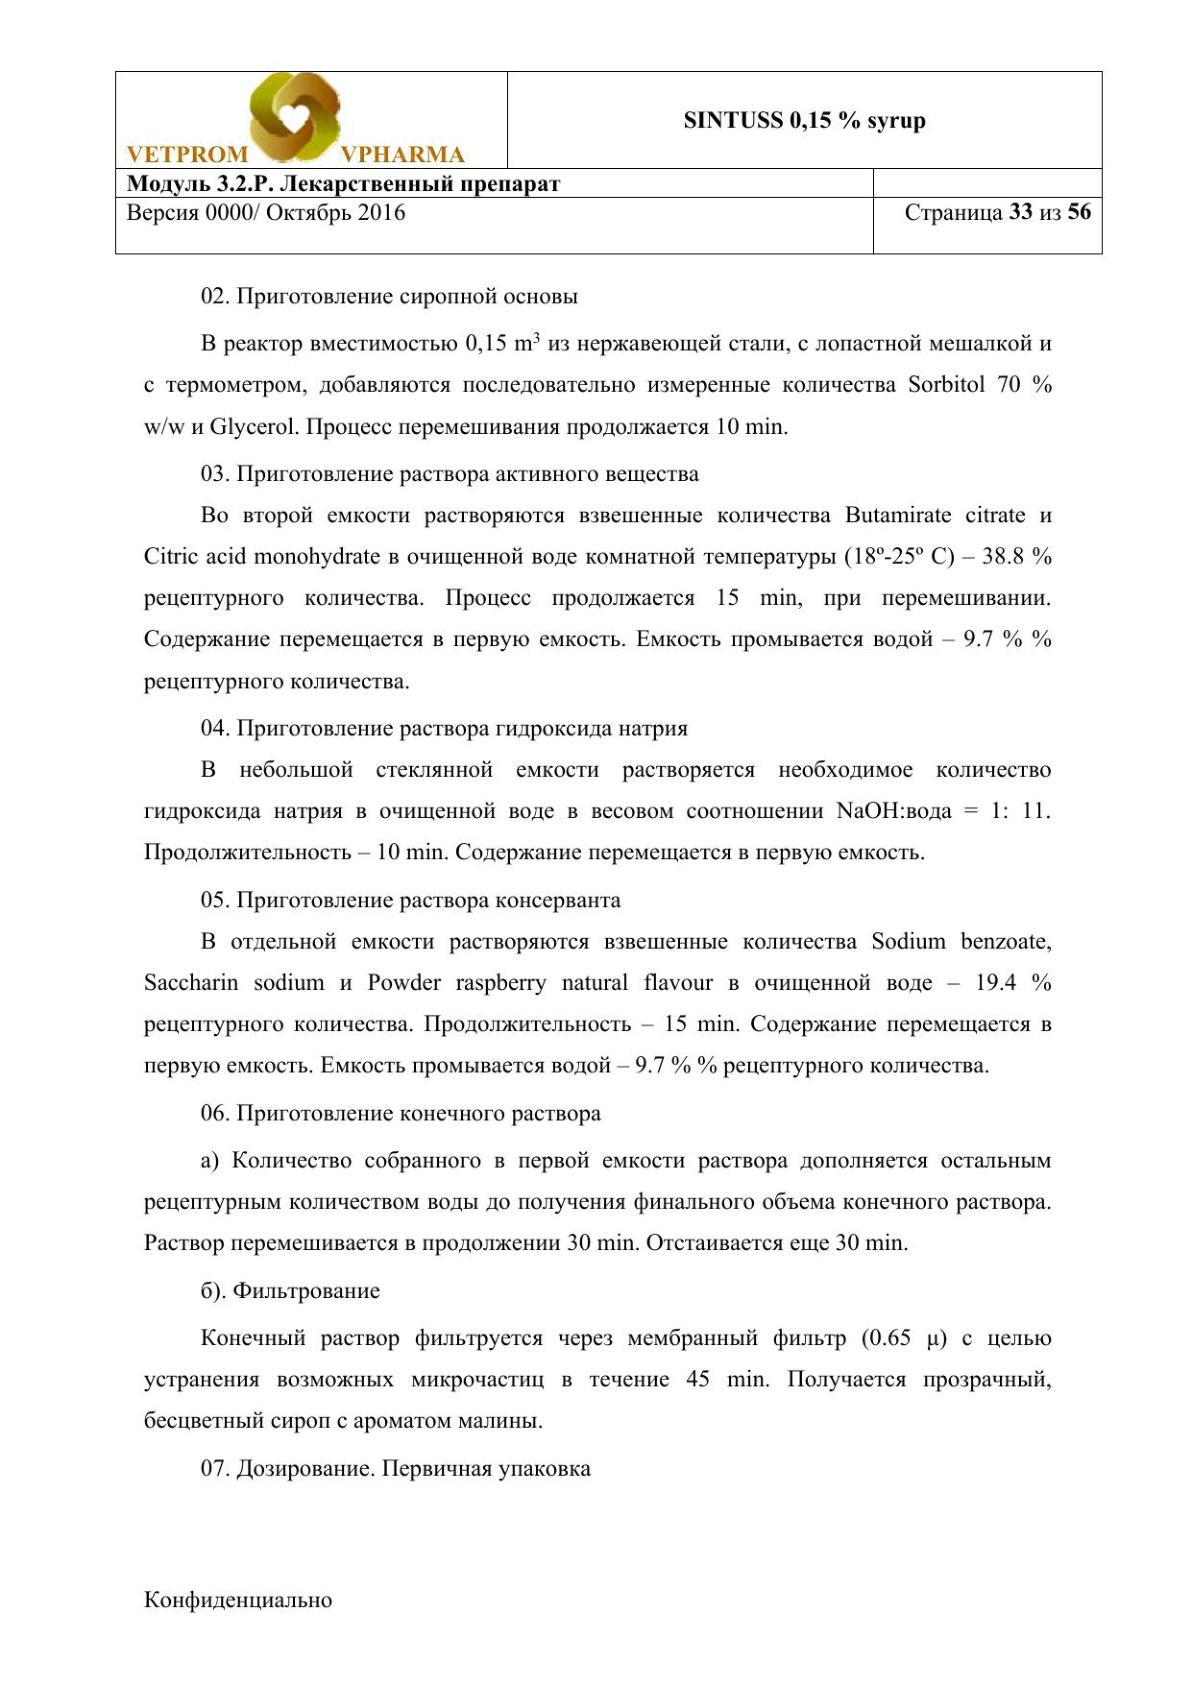merged_cells: (114, 71, 1103, 255)
